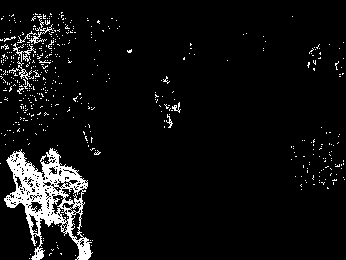person: (40, 147, 92, 260), (3, 151, 47, 257)
